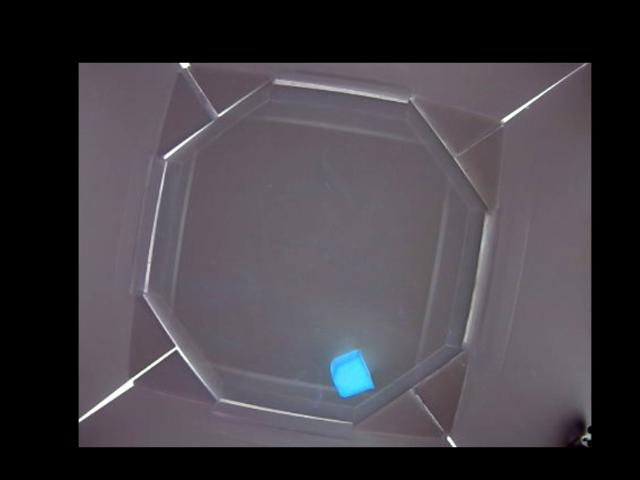Carrot: (329, 348, 374, 397)
